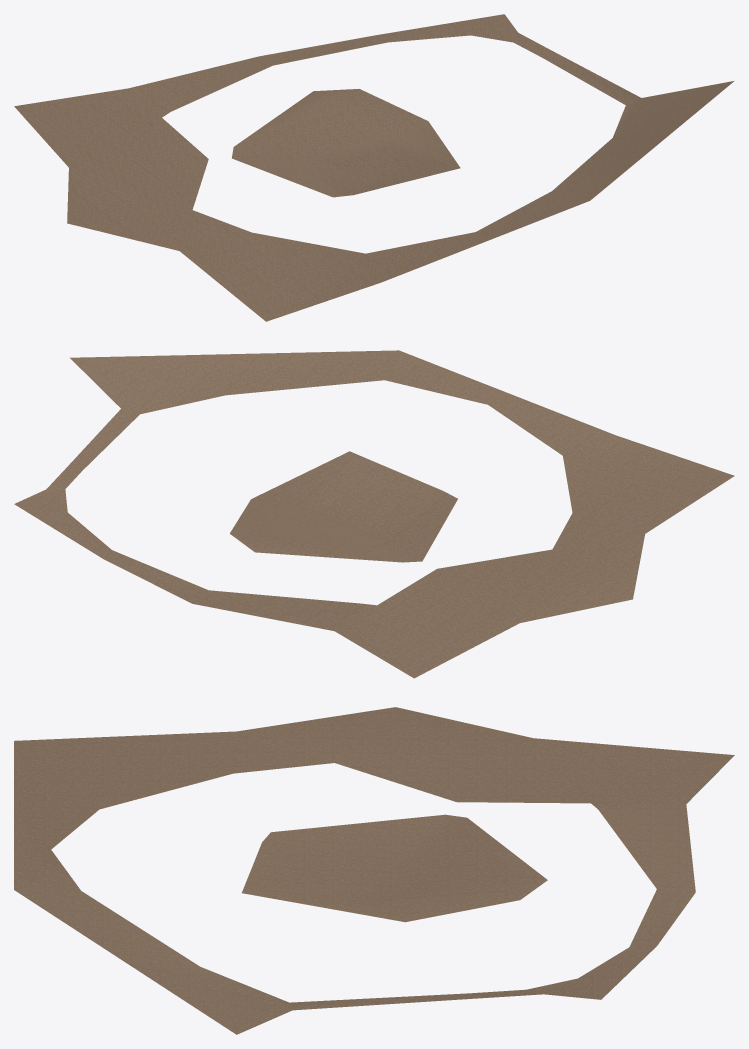
The model's file is kd_stage_135ebf_1_31.glb.
3 renders of one model, top to bottom at view 1: azimuth 30°, elevation 25°; view 2: azimuth 150°, elevation 25°; view 3: azimuth 270°, elevation 25°, orthographic. The views are drawn at different scales.
Parts seen in each view (by area): view 1: kd_stage_135ebf_1_31; view 2: kd_stage_135ebf_1_31; view 3: kd_stage_135ebf_1_31.
Boxes of the visible parts, x1=… form: kd_stage_135ebf_1_31: x1=14, y1=14, x2=733, y2=321; kd_stage_135ebf_1_31: x1=14, y1=350, x2=734, y2=678; kd_stage_135ebf_1_31: x1=14, y1=707, x2=734, y2=1034.
Bounding box in the file's own units: 12.03 × 0.7972 × 9.66.
Materials: 1 (1 with a texture image).
